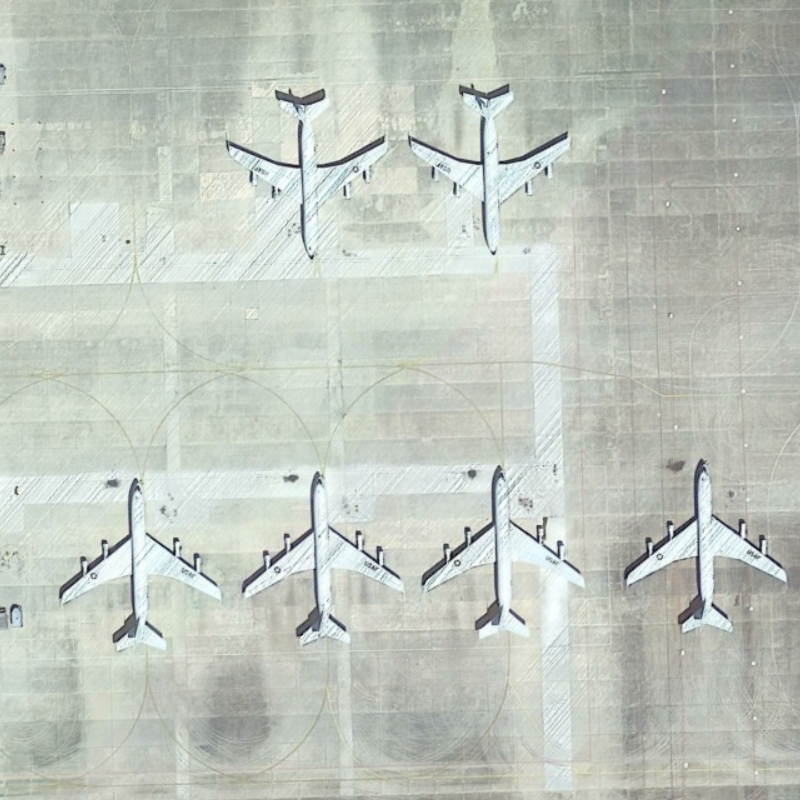A11: (613, 457, 792, 640), (237, 467, 410, 651), (405, 81, 577, 265), (54, 476, 228, 656), (417, 464, 591, 643), (220, 89, 392, 266)
